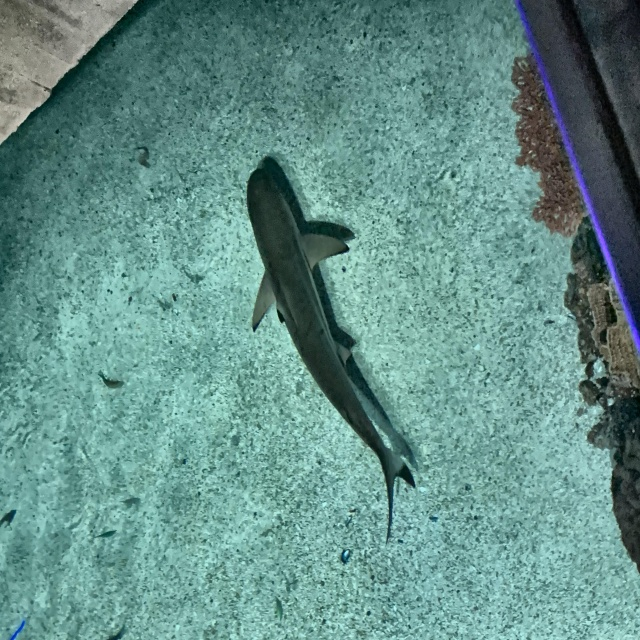shark: (247, 165, 415, 546)
